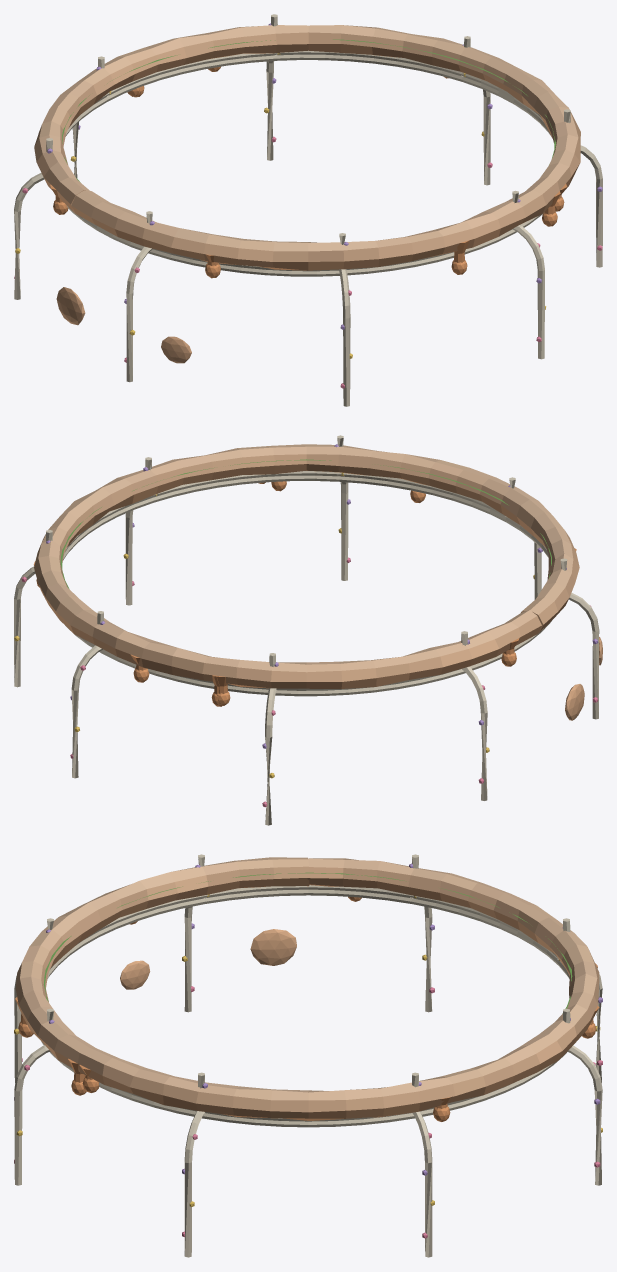
The model's file is goo_jar_trim_2_mid@garden.fbx.
3 views of the same model, one above another, from view 1: azimuth 30°, elevation 25°; view 2: azimuth 150°, elevation 25°; view 3: azimuth 270°, elevation 25° (orthographic). The views are drawn at different scales.
Parts seen in each view (by area): view 1: goo_jar_trim_2_mid; view 2: goo_jar_trim_2_mid; view 3: goo_jar_trim_2_mid.
Part boxes in pixels (<box>): goo_jar_trim_2_mid: <box>14,14,602,406</box>; goo_jar_trim_2_mid: <box>14,435,602,825</box>; goo_jar_trim_2_mid: <box>14,854,602,1257</box>.
Bounding box in the file's own units: 53.13 × 16.05 × 50.98.
